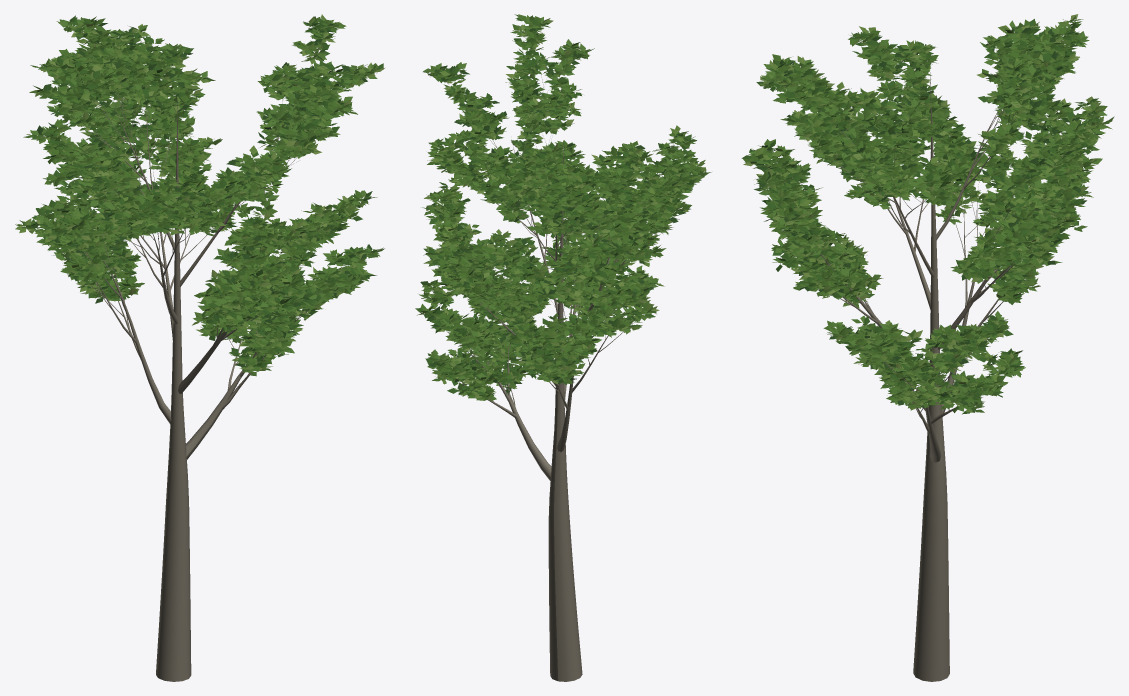
The model's file is tree_02.glb.
The picture shows the model from 3 angles, left to right: view 1: azimuth 30°, elevation 25°; view 2: azimuth 150°, elevation 25°; view 3: azimuth 270°, elevation 25°; orthographic projection. The views are drawn at different scales.
Parts seen in each view (by area): view 1: Tree_02_leaf_clusters, Tree_02_trunk_branches; view 2: Tree_02_leaf_clusters, Tree_02_trunk_branches; view 3: Tree_02_leaf_clusters, Tree_02_trunk_branches.
Boxes of the visible parts, bbox=[...] form: Tree_02_leaf_clusters: bbox=[15, 14, 384, 376]; Tree_02_trunk_branches: bbox=[41, 29, 376, 681]; Tree_02_leaf_clusters: bbox=[415, 14, 711, 400]; Tree_02_trunk_branches: bbox=[433, 32, 679, 681]; Tree_02_leaf_clusters: bbox=[741, 14, 1114, 414]; Tree_02_trunk_branches: bbox=[756, 34, 1101, 681].
Bounding box in the file's own units: 4.8 × 9.41 × 4.82.
